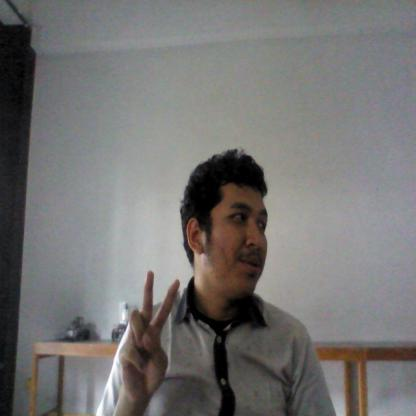V: (116, 269, 180, 406)
